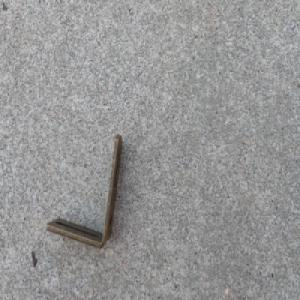MetalPart: (45, 129, 123, 246)
